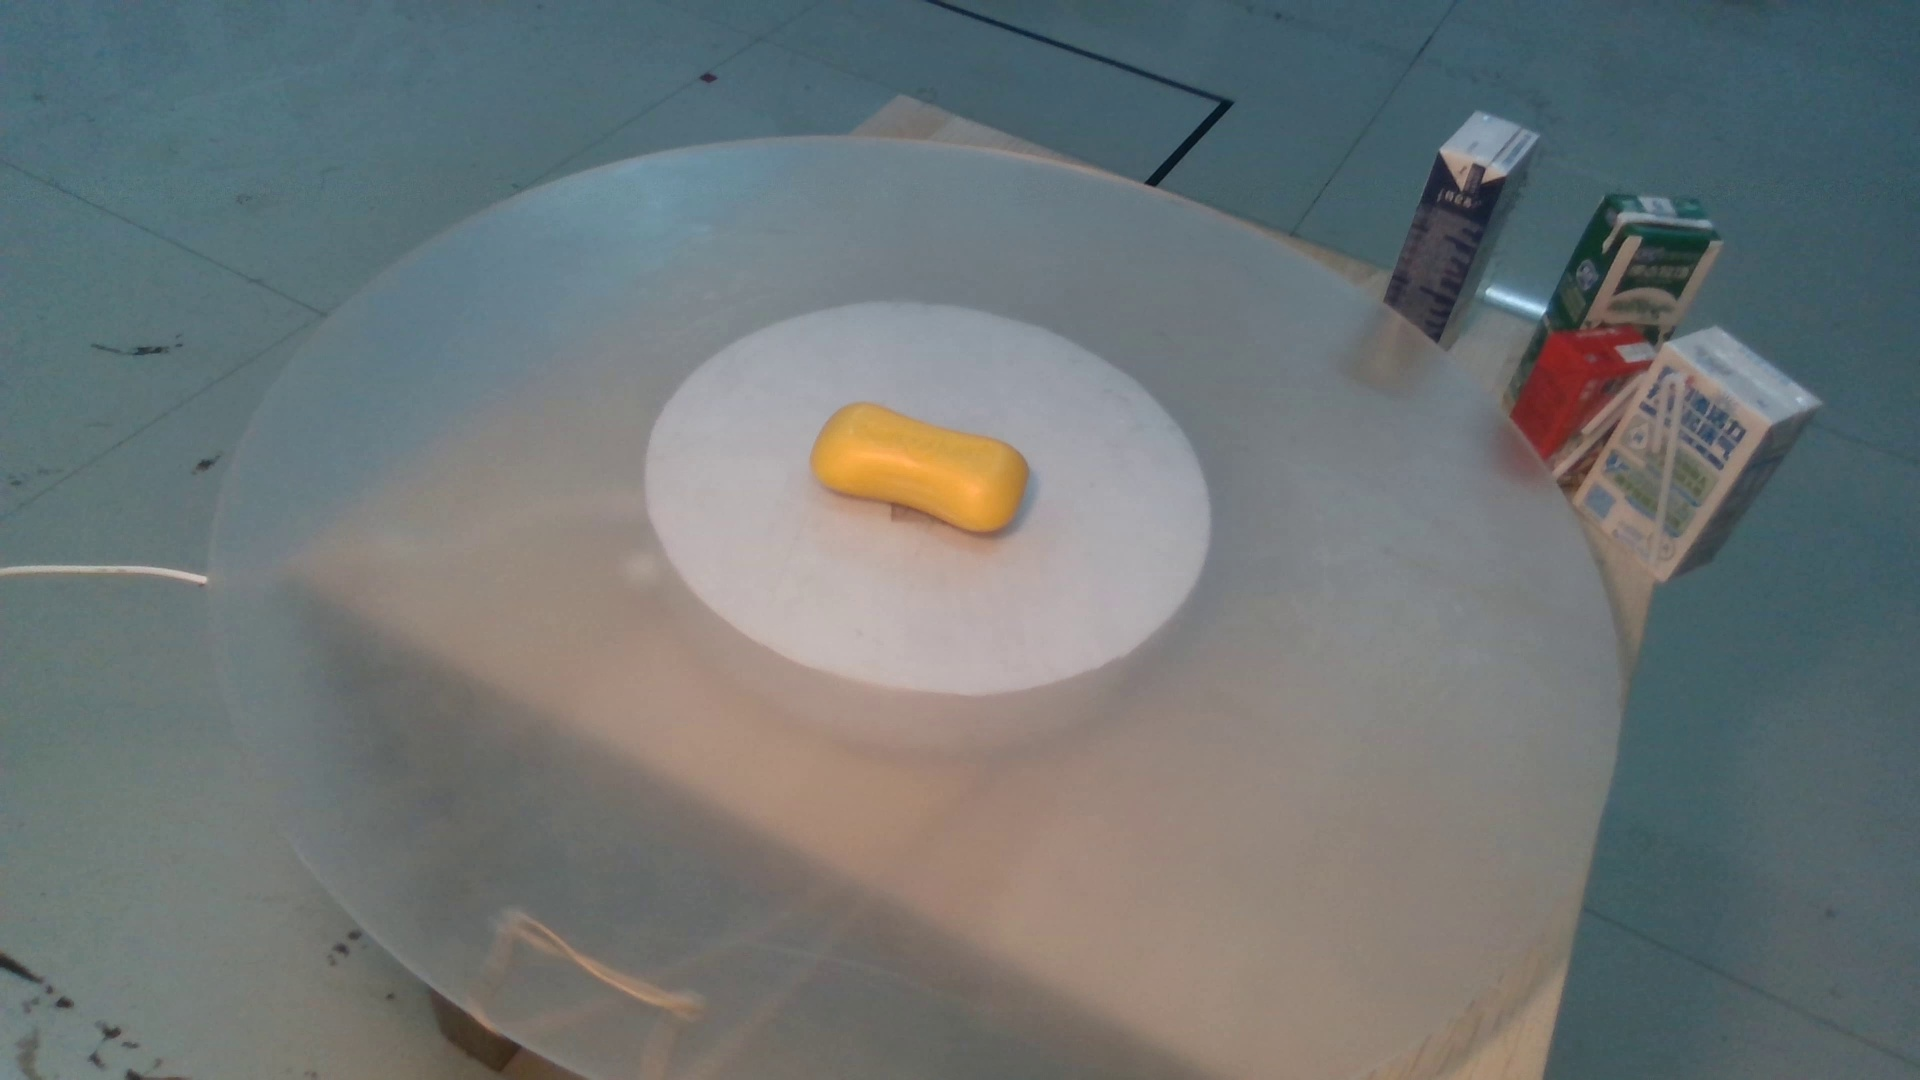CA003_1: (793, 393, 1075, 555)
